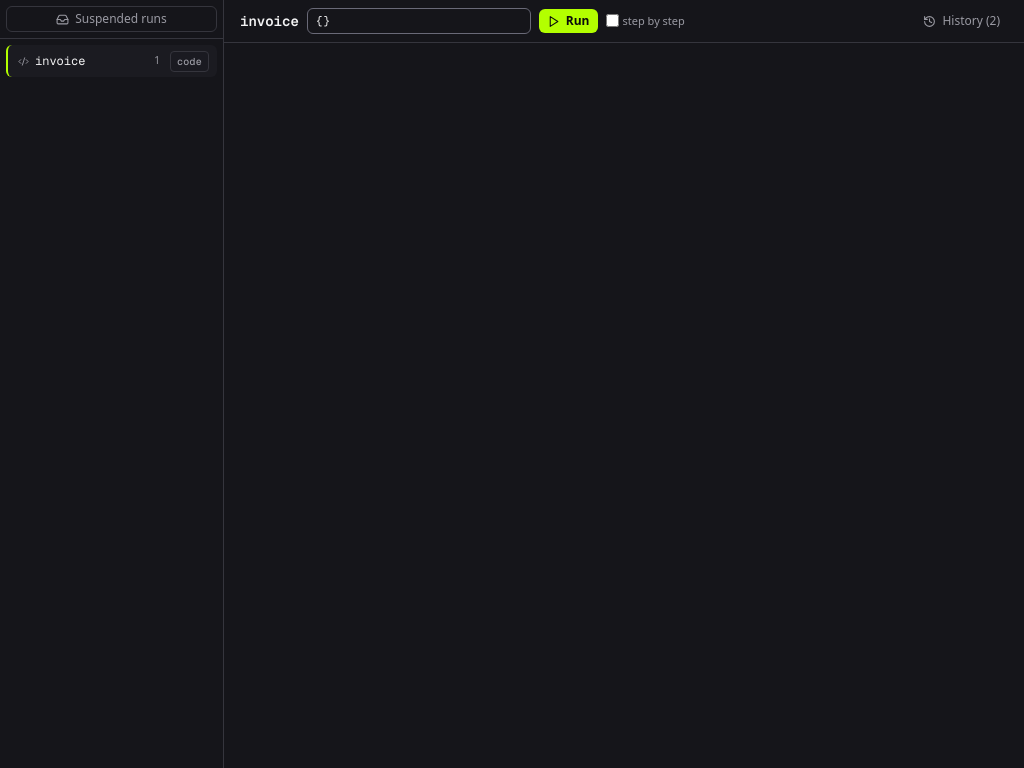
Test: WorkflowRunDiff (via Workflows view) — STATE-08 › shows ErrorBox (not "no steps to compare") when one side of the diff fails to load, and hides the diff counter
This screenshot has width=1024, height=768.
Note: Open the history menu and pick RUN_A as the active run (sets lastRunId → onDiff becomes available).
Step 1. Click the button "History (2)" → click(962, 21), box x1=915 y1=9 x2=1008 y2=33
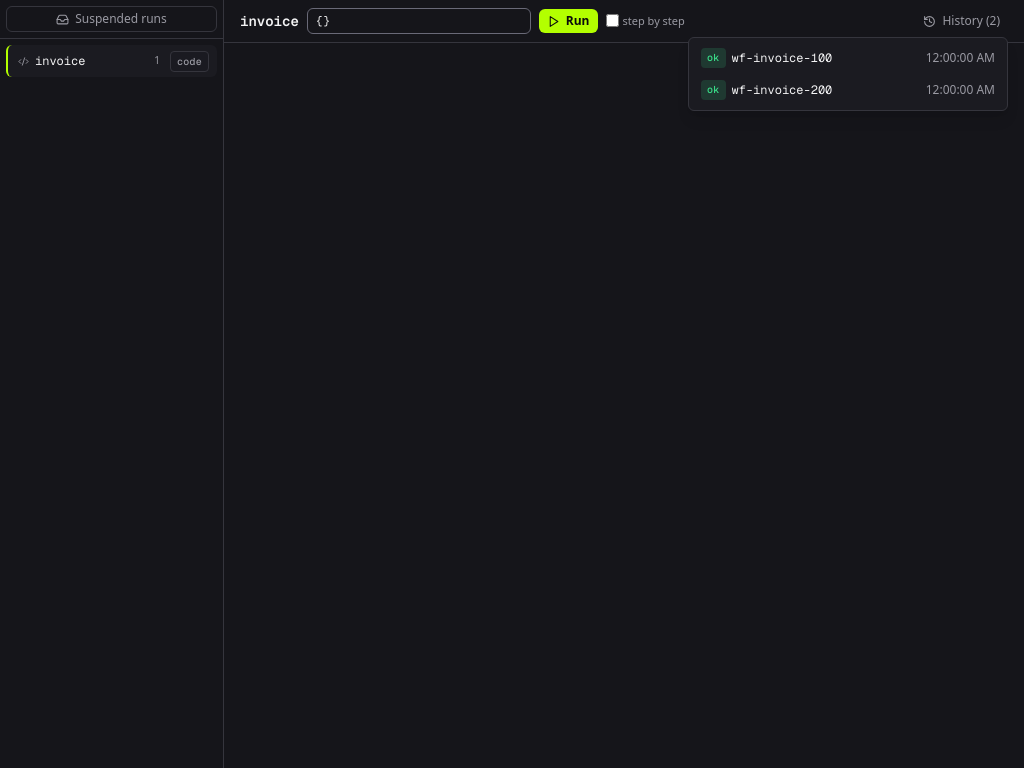
Step 2. Click the text "wf-invoice-100" → click(782, 58), box x1=732 y1=50 x2=832 y2=66
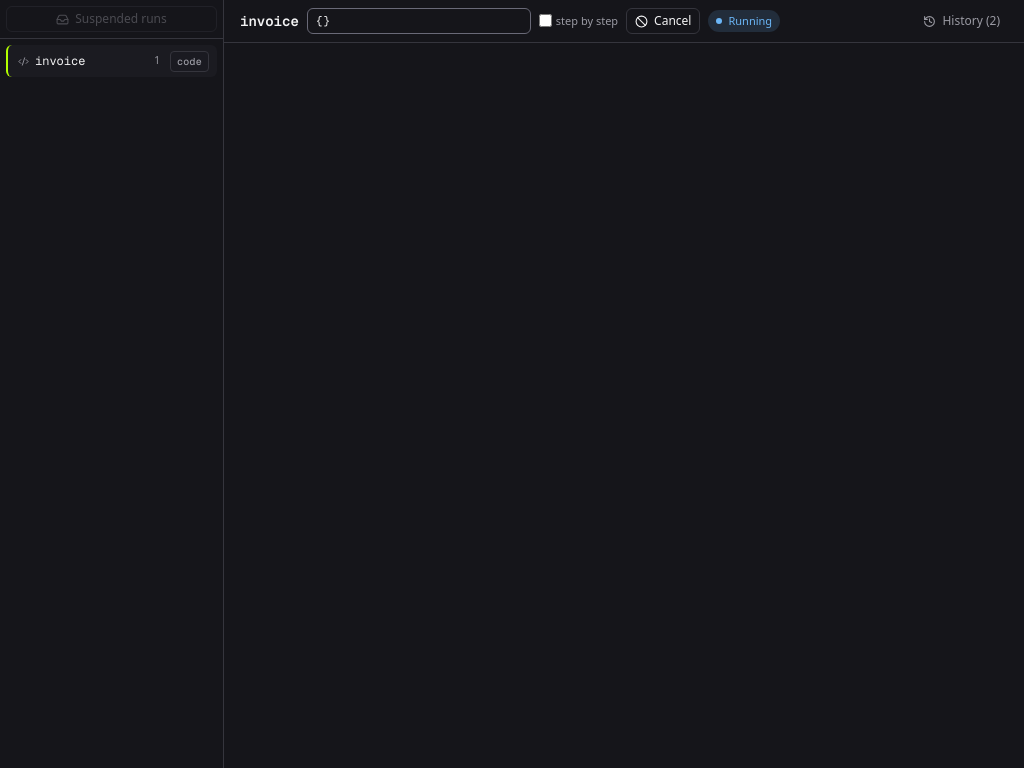
Step 3. Click the button "History (2)" → click(962, 21), box x1=915 y1=9 x2=1008 y2=33
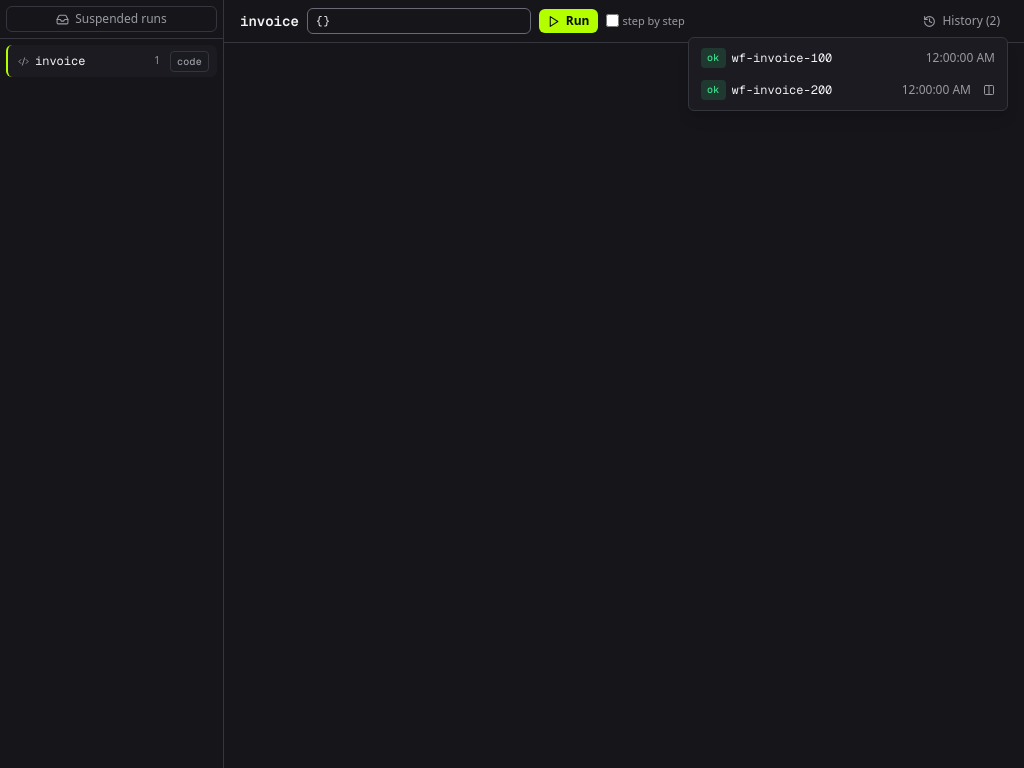
Step 4. Click the button titled "Compare with active run" → click(989, 90), box x1=979 y1=80 x2=999 y2=100
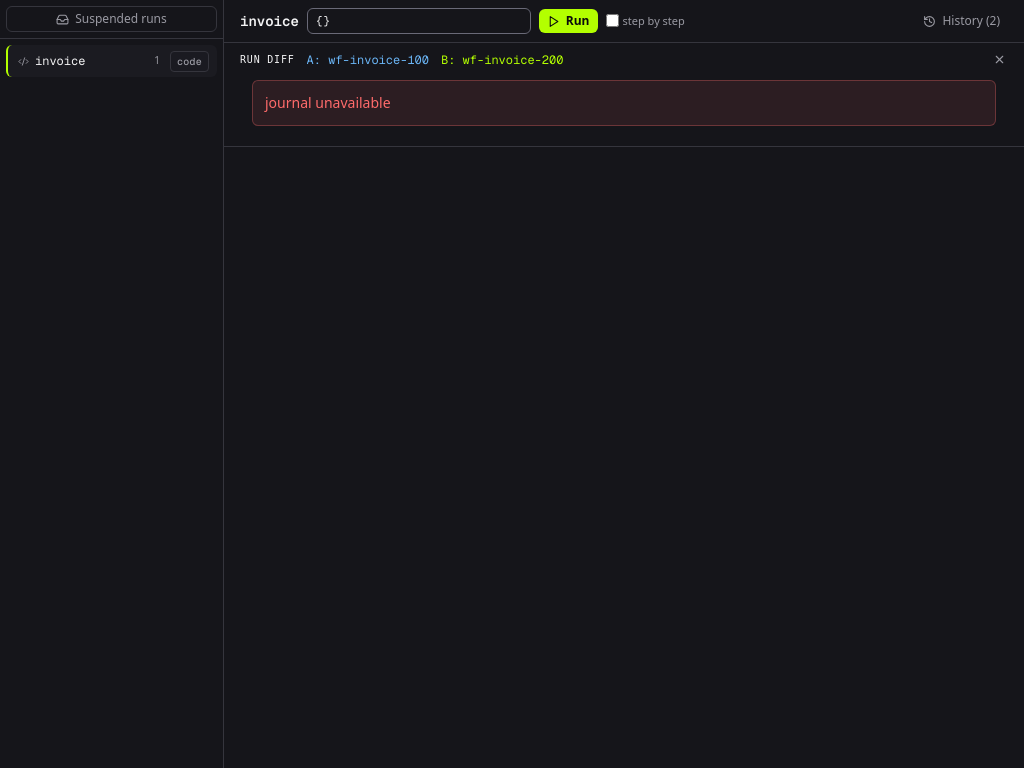
Expected: the message "journal unavailable" is shown, x1=252 y1=80 x2=996 y2=126
Expected: the message reads "journal unavailable", x1=265 y1=93 x2=391 y2=112
